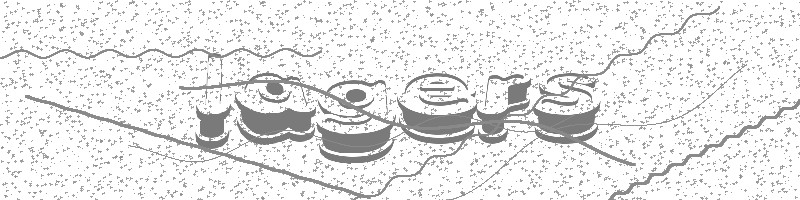a: (232, 69, 318, 144)
e: (396, 68, 476, 146)
g: (318, 78, 396, 160)
l: (193, 49, 232, 150)
r: (476, 74, 530, 145)
s: (532, 66, 601, 145)
